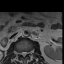CCS_stenosis: (23, 50, 25, 59)
LFS_stenosis: (27, 49, 29, 56)
LLS_normal: (25, 49, 27, 57)
RFS_stenosis: (18, 50, 21, 57)
RLS_normal: (21, 50, 23, 56)
